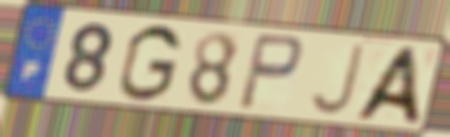8: (186, 29, 240, 108), (60, 20, 116, 96)
A: (348, 45, 425, 127)
G: (115, 22, 184, 104)
J: (307, 41, 368, 117)
P: (235, 31, 306, 114)
